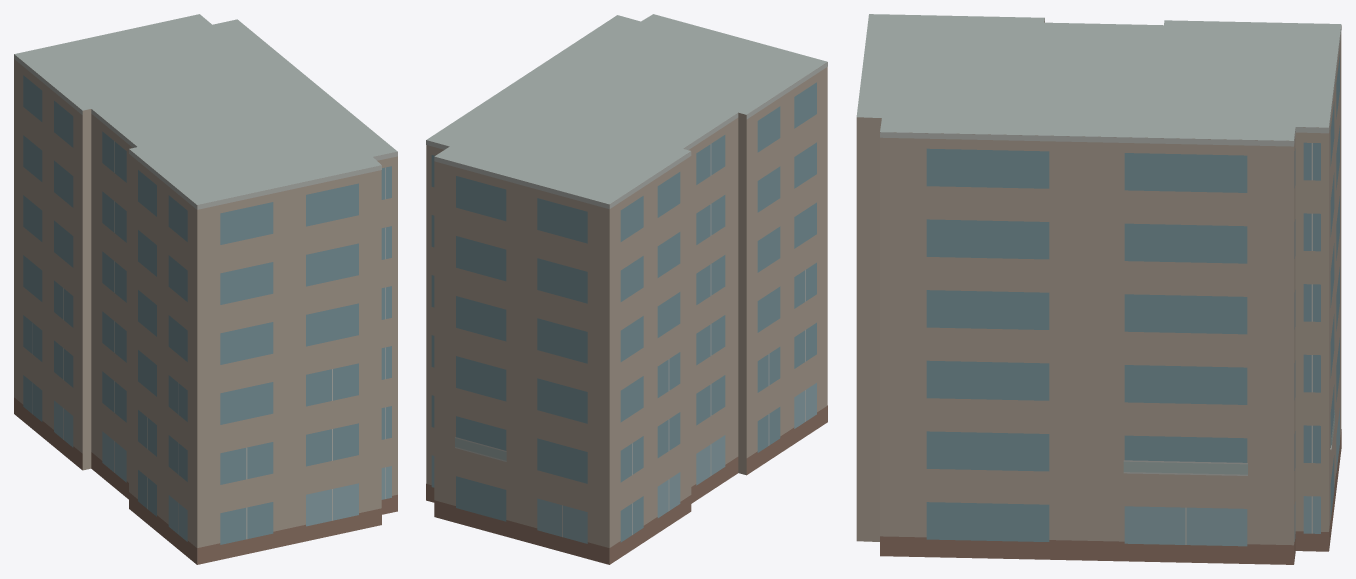
Rendered from survey-upis-32662806.glb.
3 renders of one model, left to right at view 1: azimuth 30°, elevation 25°; view 2: azimuth 150°, elevation 25°; view 3: azimuth 270°, elevation 25°, orthographic. The views are drawn at different scales.
Visible parts, largest first — view 1: survey-upis-32662806.tmp; view 2: survey-upis-32662806.tmp; view 3: survey-upis-32662806.tmp.
Boxes of the visible parts, x1,y1,x2,y2 form: survey-upis-32662806.tmp: (14,14,397,564); survey-upis-32662806.tmp: (426,14,827,564); survey-upis-32662806.tmp: (856,14,1341,564).
Size of the model in its own units: 11.75 by 18.3 by 18.98.
